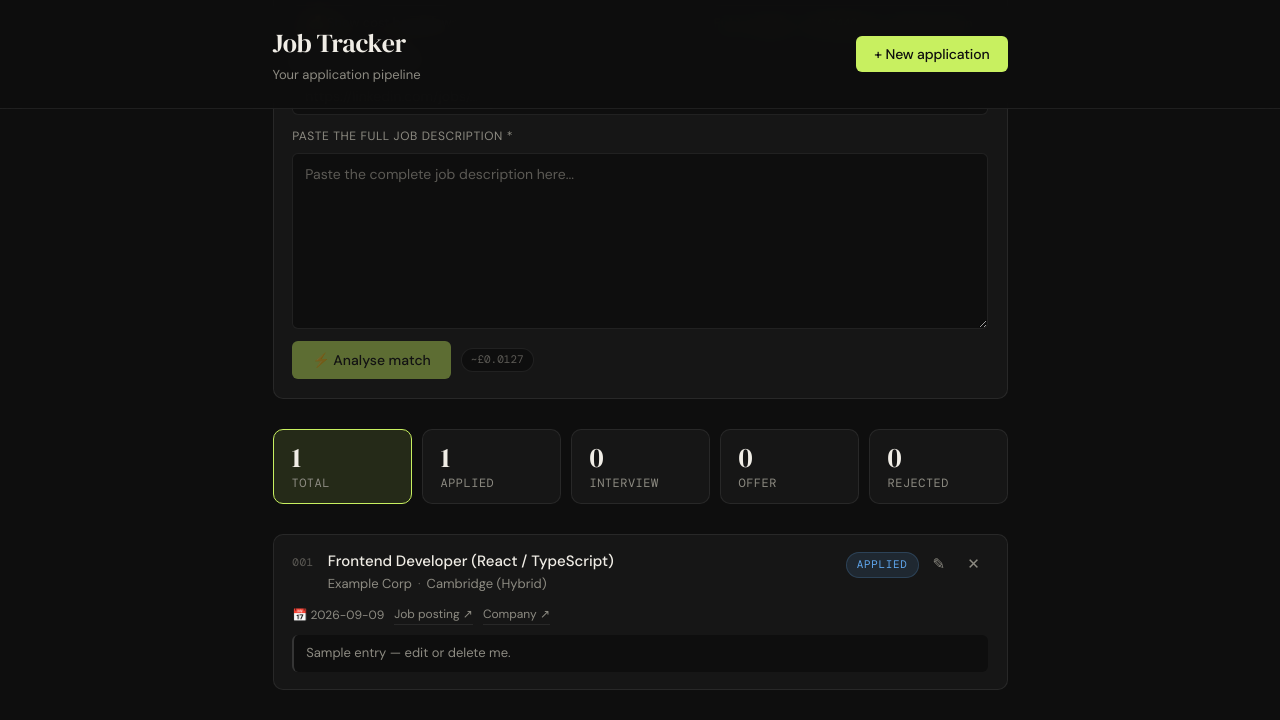
Test case: App › filters applications by status
(page scrolled)
Click the button "0 Offer".
click(789, 466)  # box x1=720 y1=429 x2=858 y2=504
(page scrolled)
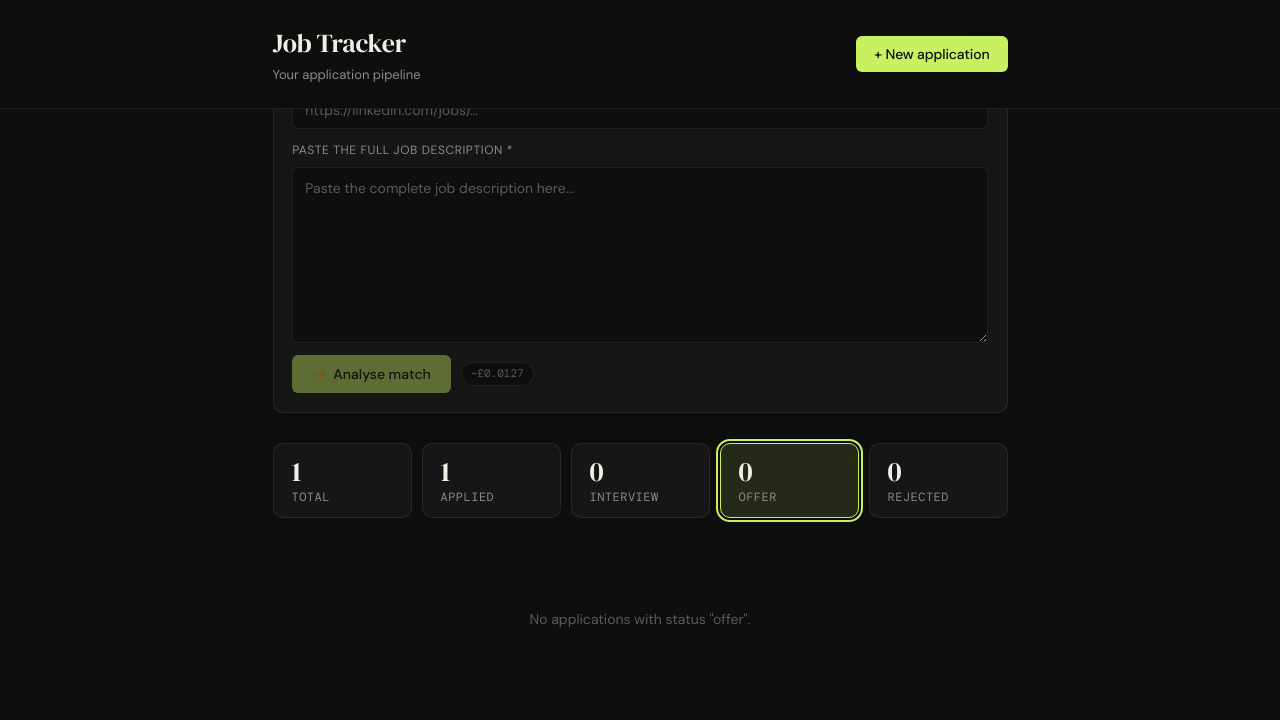
Expected: the text "No applications with status \"offer\"." is shown, x1=530 y1=610 x2=750 y2=628
